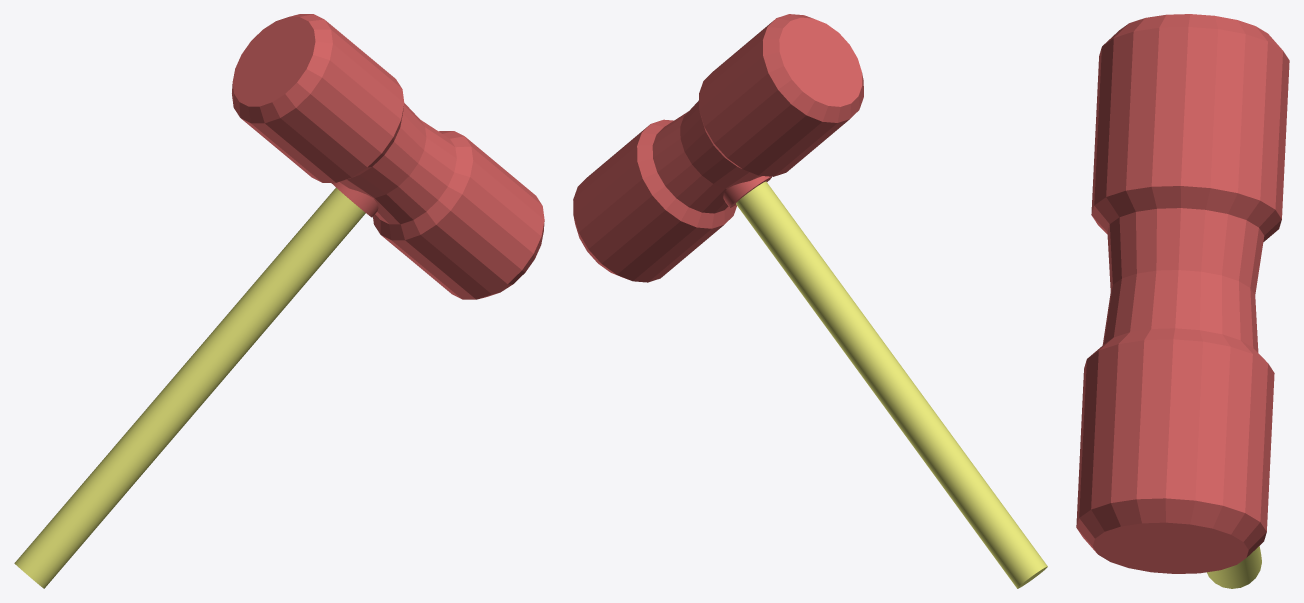
The model's file is Obstacle07.fbx.
3 renders of one model, left to right at view 1: azimuth 30°, elevation 25°; view 2: azimuth 150°, elevation 25°; view 3: azimuth 270°, elevation 25°, orthographic. The views are drawn at different scales.
Visible parts, largest first — view 1: Hammer_msh, Hammer_Handle_msh; view 2: Hammer_msh, Hammer_Handle_msh; view 3: Hammer_msh, Hammer_Handle_msh.
Boxes of the visible parts, bbox=[...] form: Hammer_msh: bbox=[232, 14, 544, 299]; Hammer_Handle_msh: bbox=[14, 182, 378, 588]; Hammer_msh: bbox=[573, 14, 863, 282]; Hammer_Handle_msh: bbox=[723, 176, 1047, 588]; Hammer_msh: bbox=[1076, 14, 1289, 573]; Hammer_Handle_msh: bbox=[1207, 546, 1261, 588].
Bounding box in the file's own units: 13.27 × 13.11 × 3.35.
